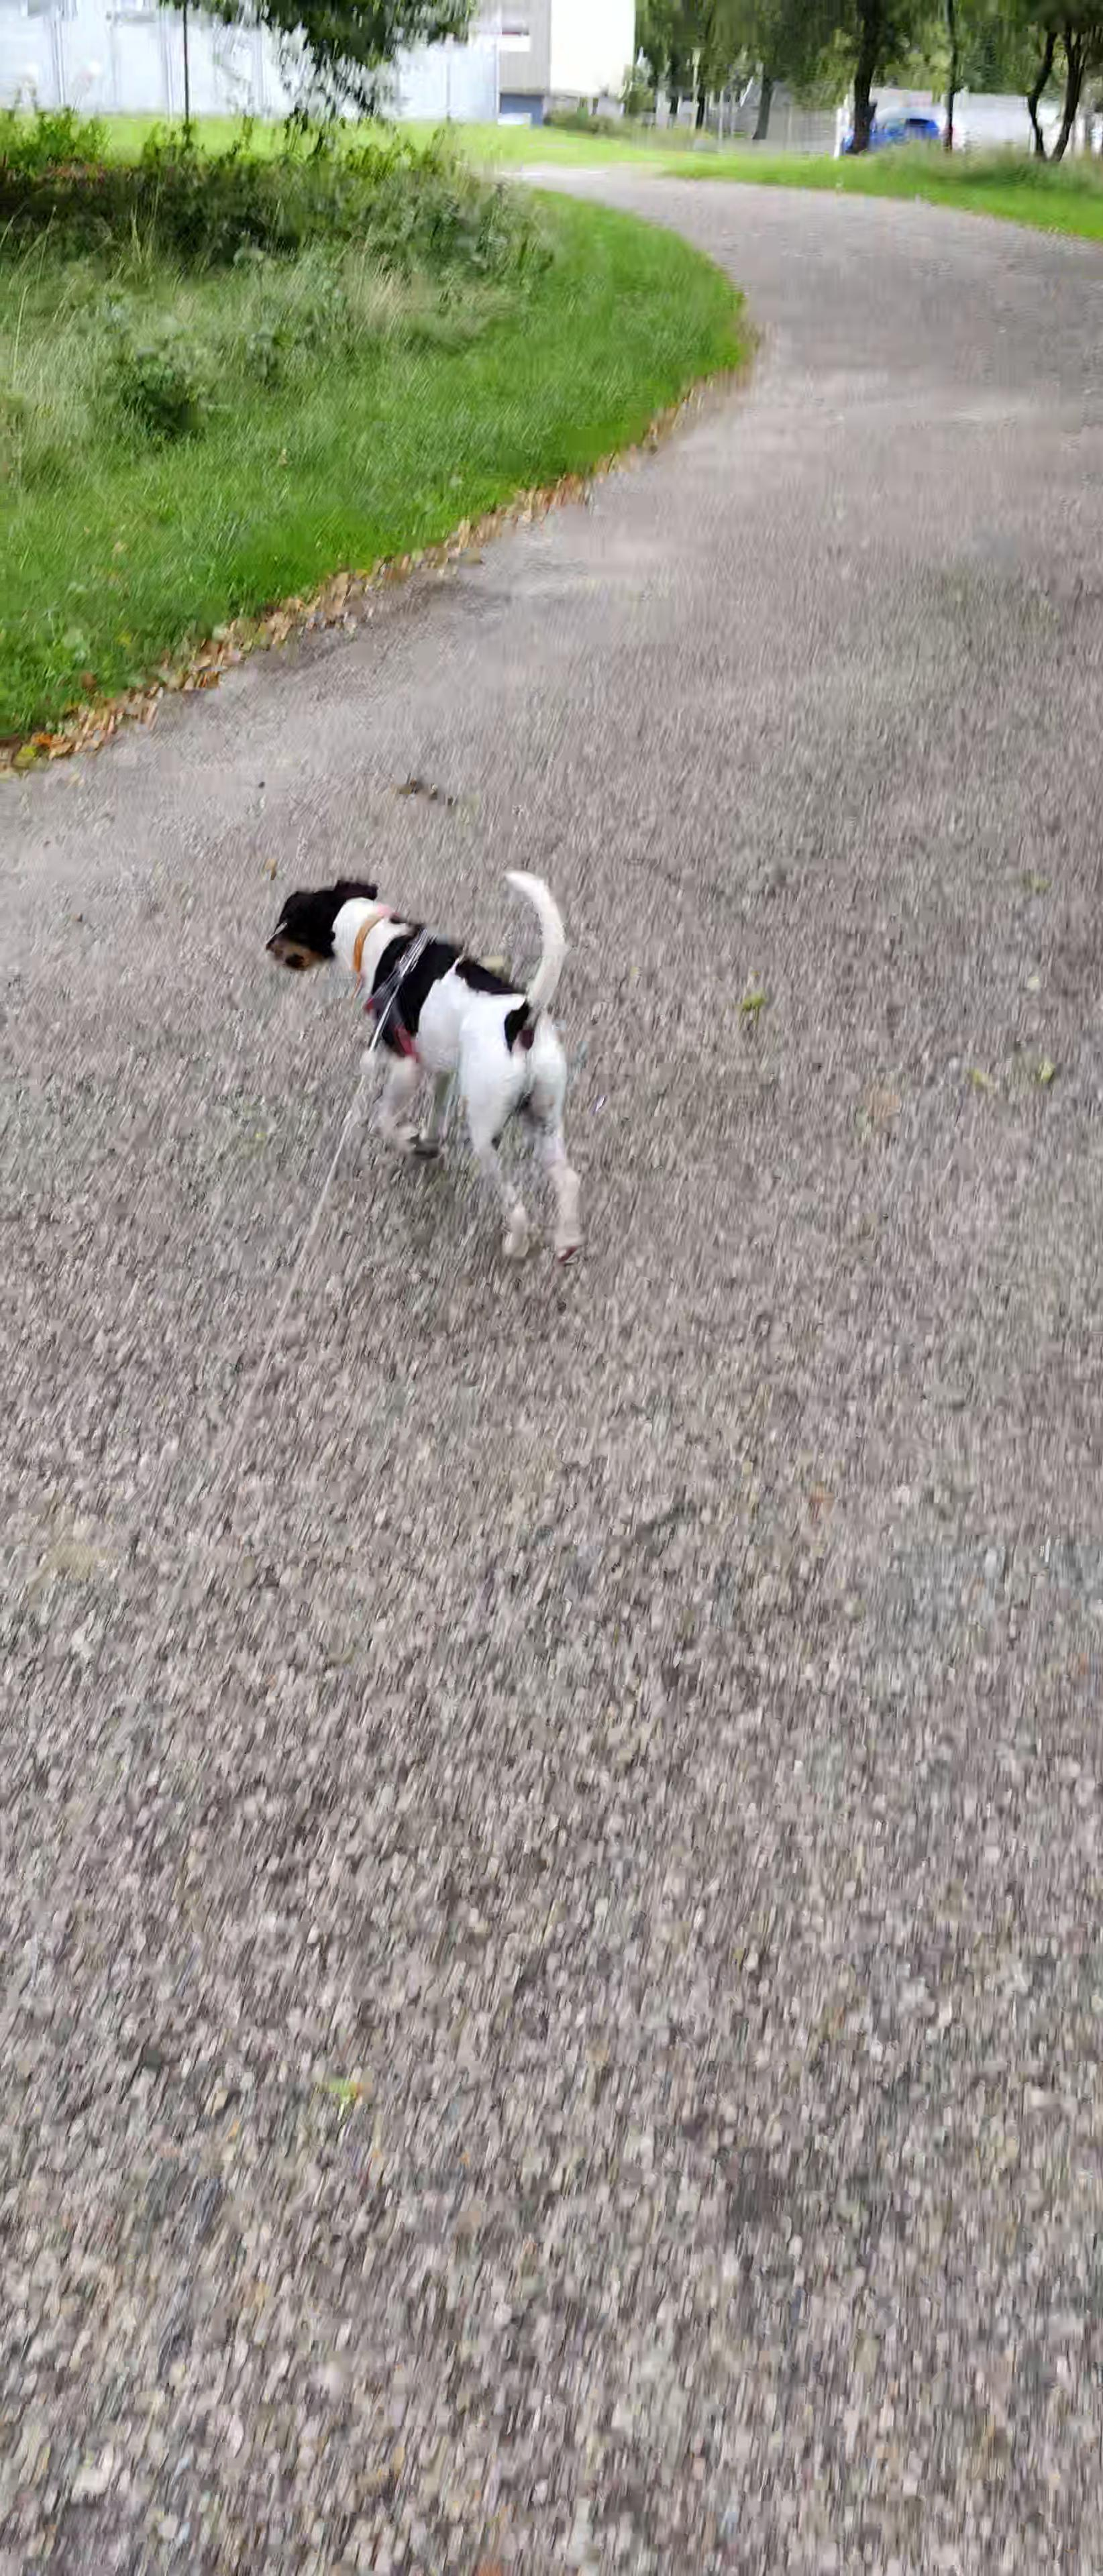Dog: (258, 858, 592, 1270)
